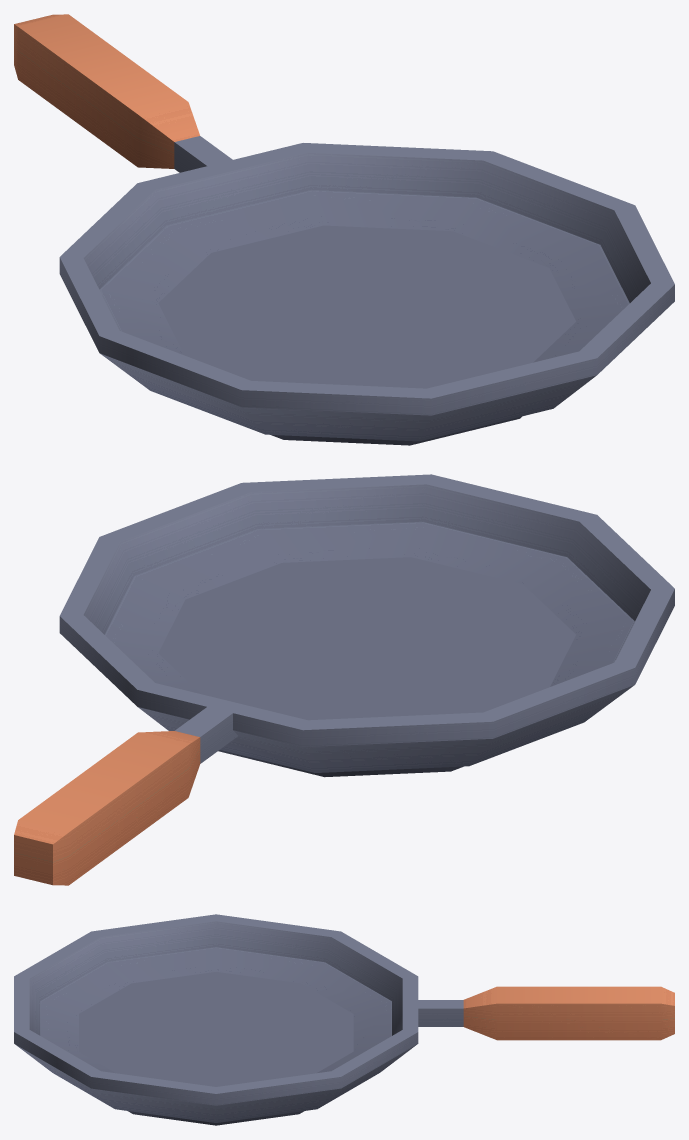
File: frying-pan.glb
3 views of the same model, one above another, from view 1: azimuth 30°, elevation 25°; view 2: azimuth 150°, elevation 25°; view 3: azimuth 270°, elevation 25° (orthographic). The views are drawn at different scales.
Visible parts, largest first — view 1: frying-pan; view 2: frying-pan; view 3: frying-pan.
Part boxes in pixels (x1,y1,x2,y2): frying-pan: (14,14,674,445); frying-pan: (14,474,674,885); frying-pan: (14,914,674,1125).
Bounding box in the file's own units: 0.6574 × 0.1206 × 1.02.
1 material, 1 textured.
